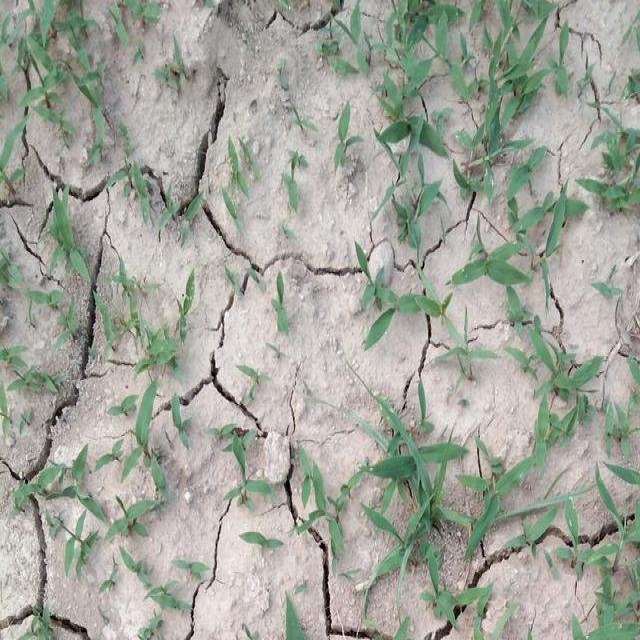weed: (349, 360, 463, 600), (470, 9, 575, 258), (352, 0, 453, 241), (12, 0, 119, 109), (502, 291, 572, 413), (286, 458, 364, 560), (350, 255, 435, 329), (471, 436, 528, 544), (114, 396, 166, 476), (36, 191, 82, 281)
